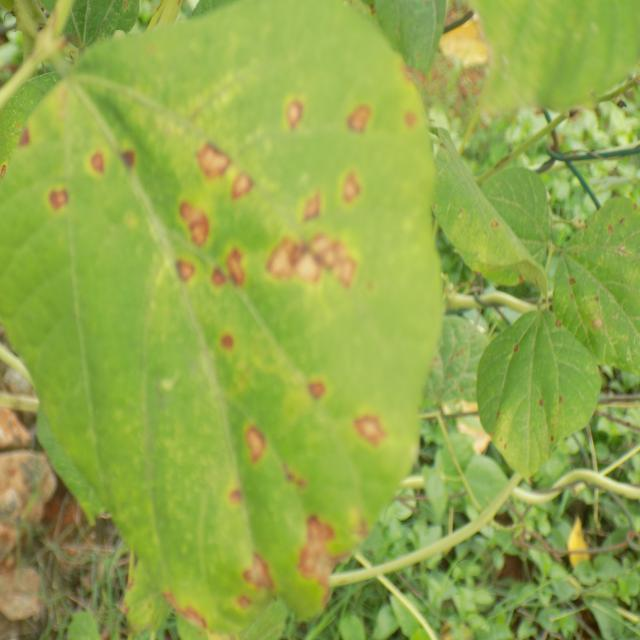Dolicos bean_cercospora leaf spot: (0, 0, 446, 640), (476, 310, 598, 481), (548, 186, 640, 390)
Dolicos bean_healthy: (482, 166, 561, 278)
